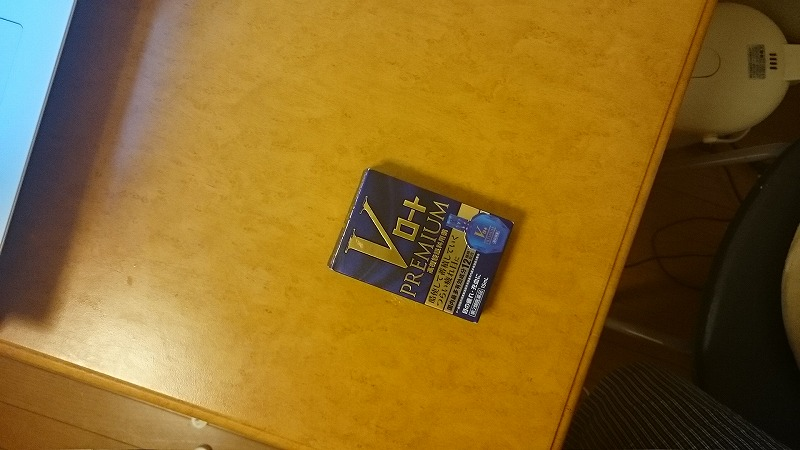D: (322, 164, 522, 332)
